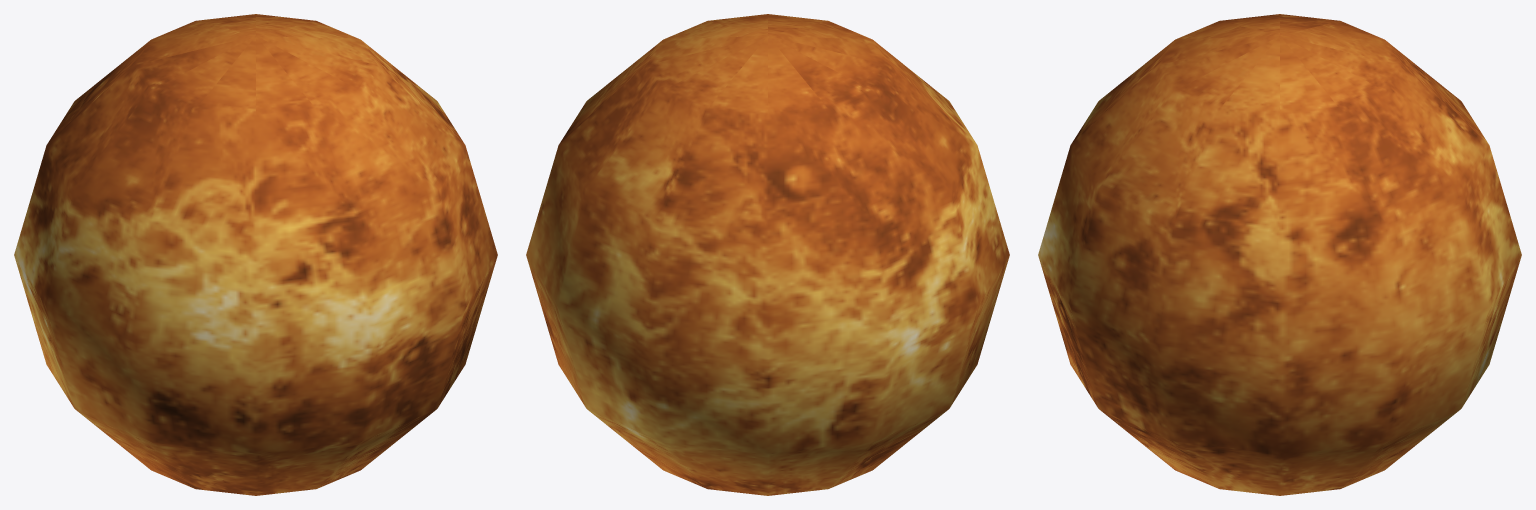
File: planeta.obj
3 renders of one model, left to right at view 1: azimuth 30°, elevation 25°; view 2: azimuth 150°, elevation 25°; view 3: azimuth 270°, elevation 25°, orthographic.
Visible parts, largest first — view 1: polySurface2; view 2: polySurface2; view 3: polySurface2.
Part boxes in pixels (box(x1,y1,x2,y2)): polySurface2: box(14, 14, 497, 495); polySurface2: box(526, 14, 1009, 495); polySurface2: box(1038, 14, 1521, 495).
Bounding box in the file's own units: 1.9 × 1.9 × 1.9.
1 material, 1 textured.
